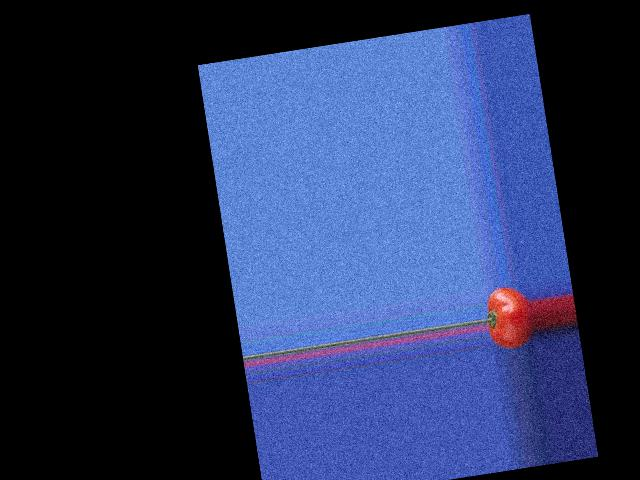tomato: (482, 284, 536, 352)
